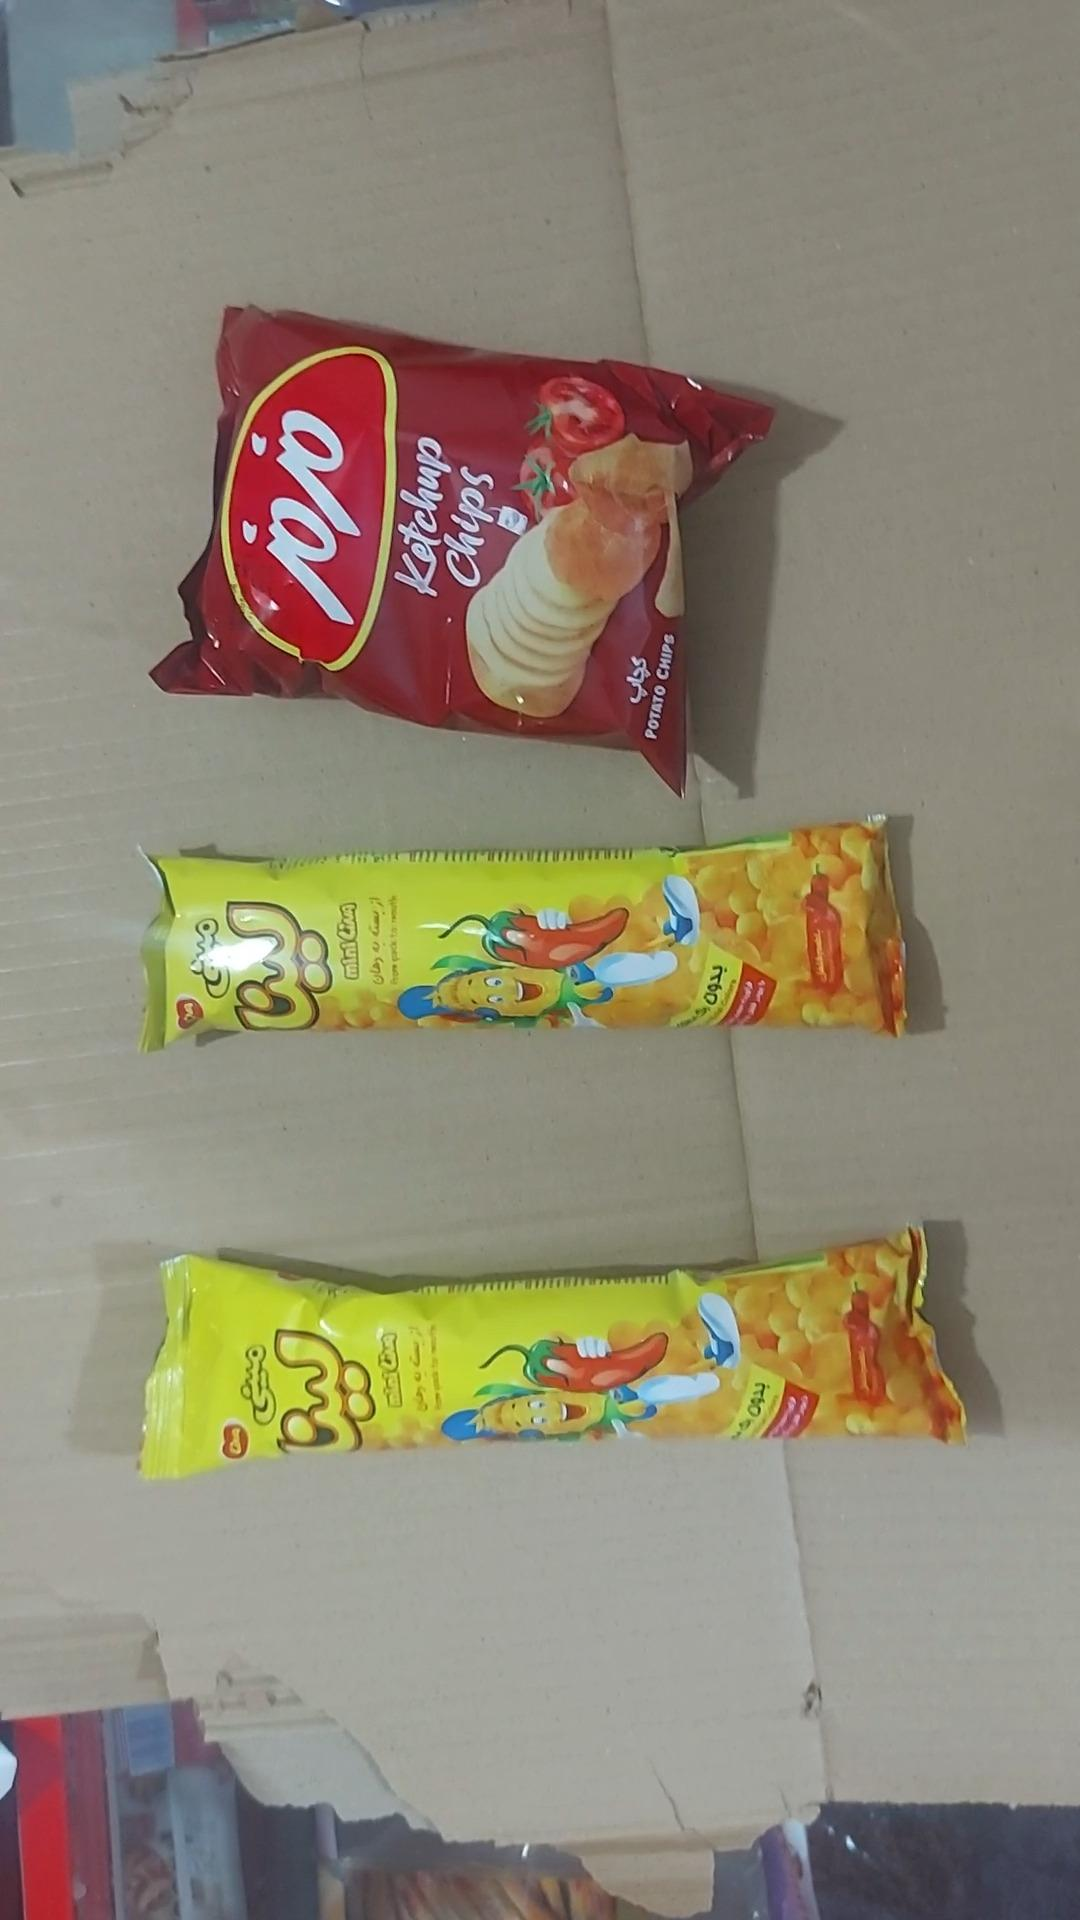Maz Maz ketchup chips: (153, 309, 771, 793)
Mini Lina: (138, 1229, 965, 1478), (141, 820, 906, 1050)
